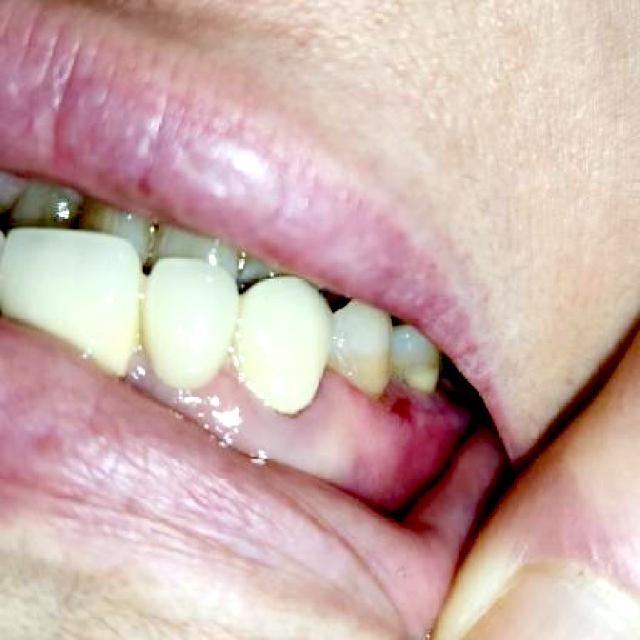Plaque: (324, 367, 460, 431)
